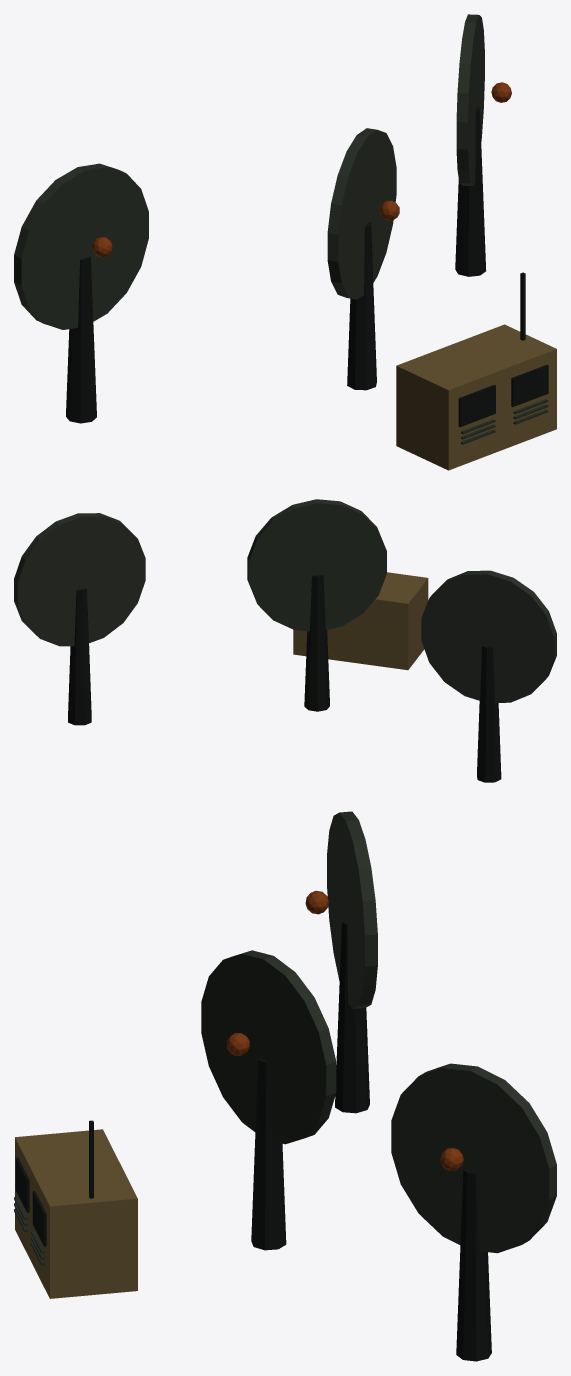
The model's file is landmark_satellite_array.obj.
3 views of the same model, one above another, from view 1: azimuth 30°, elevation 25°; view 2: azimuth 150°, elevation 25°; view 3: azimuth 270°, elevation 25° (orthographic). The views are drawn at different scales.
Parts seen in each view (by area): view 1: MilitaryStructure8, metal_cylinder, metal_cylinder2, metal_cylinder3, iron_cylinder, iron_cylinder2, iron_cylinder3; view 2: metal_cylinder2, metal_cylinder, metal_cylinder3, MilitaryStructure8, iron_cylinder2, iron_cylinder, iron_cylinder3; view 3: metal_cylinder3, metal_cylinder2, MilitaryStructure8, metal_cylinder, iron_cylinder3, iron_cylinder2, iron_cylinder.
Boxes of the visible parts, x1,y1,x2,y2 form: MilitaryStructure8: [396, 272, 556, 470]; metal_cylinder: [14, 163, 148, 329]; metal_cylinder2: [327, 128, 396, 299]; metal_cylinder3: [456, 14, 484, 185]; iron_cylinder: [66, 256, 96, 423]; iron_cylinder2: [347, 221, 376, 390]; iron_cylinder3: [455, 107, 486, 276]; metal_cylinder2: [247, 499, 386, 631]; metal_cylinder: [421, 570, 556, 702]; metal_cylinder3: [14, 513, 145, 646]; MilitaryStructure8: [293, 572, 428, 670]; iron_cylinder2: [304, 575, 329, 711]; iron_cylinder: [477, 646, 501, 782]; iron_cylinder3: [68, 588, 91, 725]; metal_cylinder3: [391, 1063, 556, 1253]; metal_cylinder2: [201, 950, 336, 1144]; MilitaryStructure8: [14, 1120, 137, 1298]; metal_cylinder: [327, 811, 377, 1008]; iron_cylinder3: [456, 1169, 491, 1361]; iron_cylinder2: [251, 1057, 286, 1250]; iron_cylinder: [335, 918, 369, 1113].
Size of the model in its own units: 12.45 by 5.25 by 9.06.
